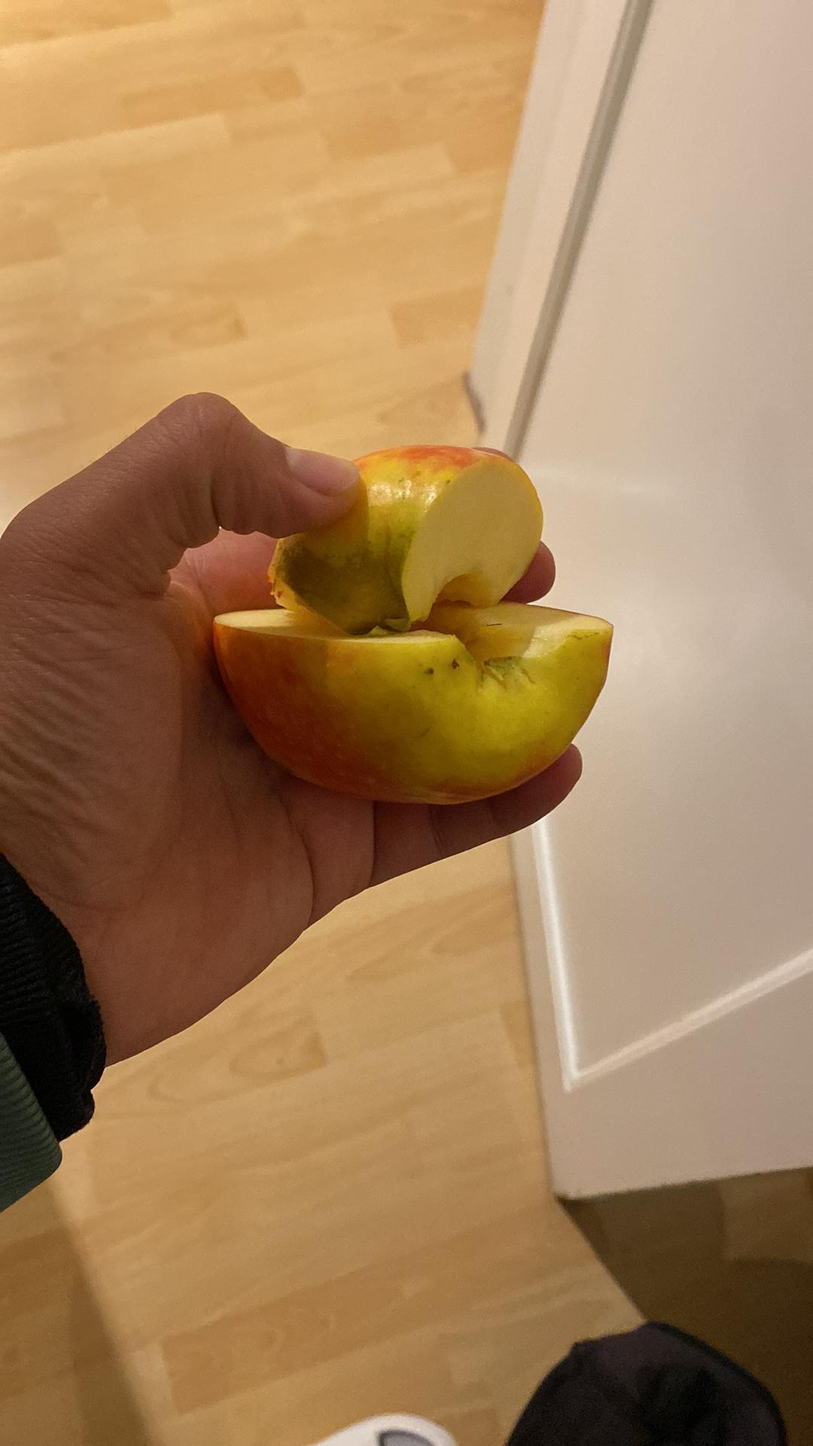apple: (207, 420, 616, 806)
